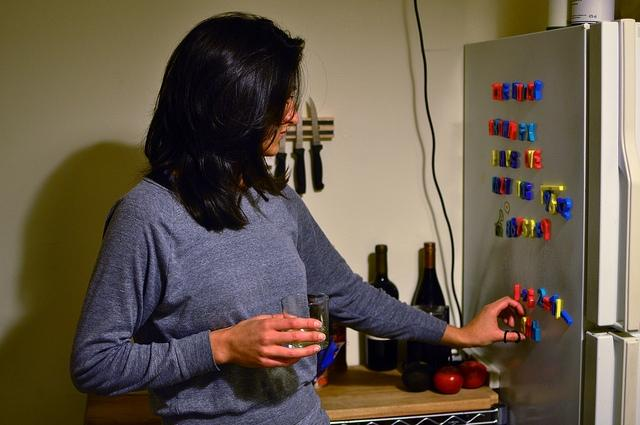tomato: (458, 360, 488, 390), (434, 366, 464, 394)
